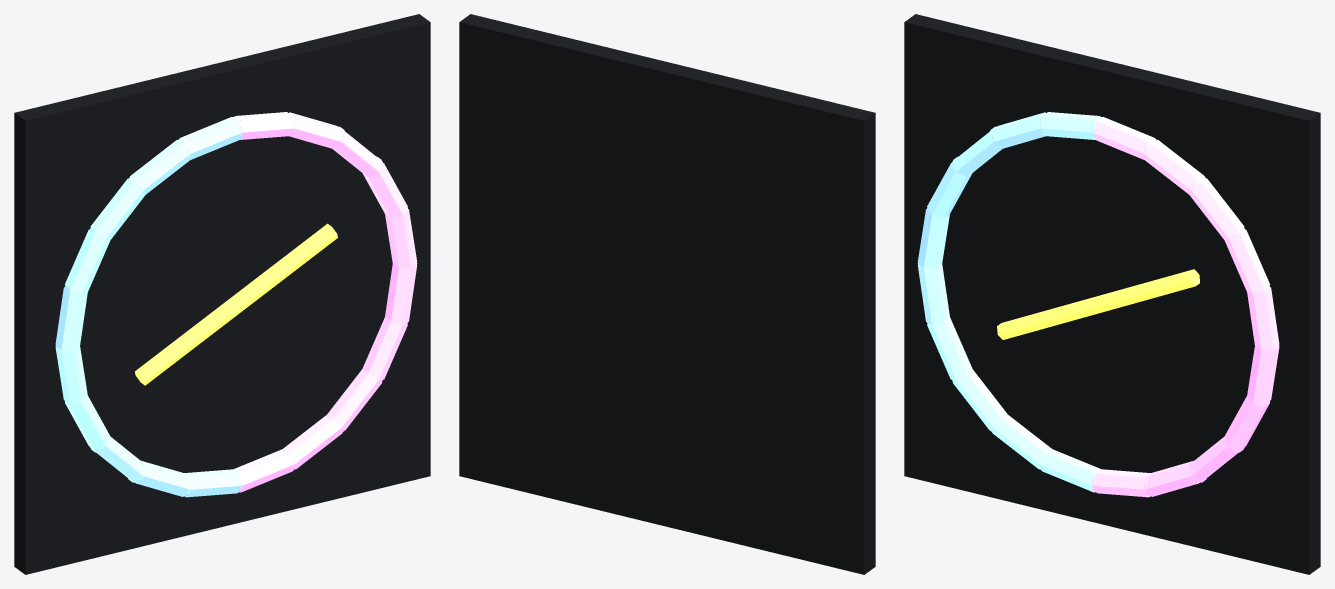
The model's file is neon_circle.glb.
3 renders of one model, left to right at view 1: azimuth 30°, elevation 25°; view 2: azimuth 150°, elevation 25°; view 3: azimuth 330°, elevation 25°, orthographic.
Parts seen in each view (by area): view 1: neon_circle; view 2: neon_circle; view 3: neon_circle.
Boxes of the visible parts, left/top/right/bottom form: neon_circle: left=14, top=14, right=430, bottom=574; neon_circle: left=459, top=14, right=875, bottom=574; neon_circle: left=904, top=14, right=1320, bottom=574.
Bounding box in the file's own units: 0.84 × 0.9 × 0.092.
